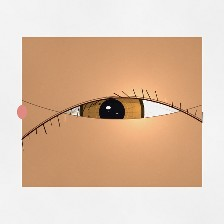pterygium_lesion: (20, 85, 87, 139)
